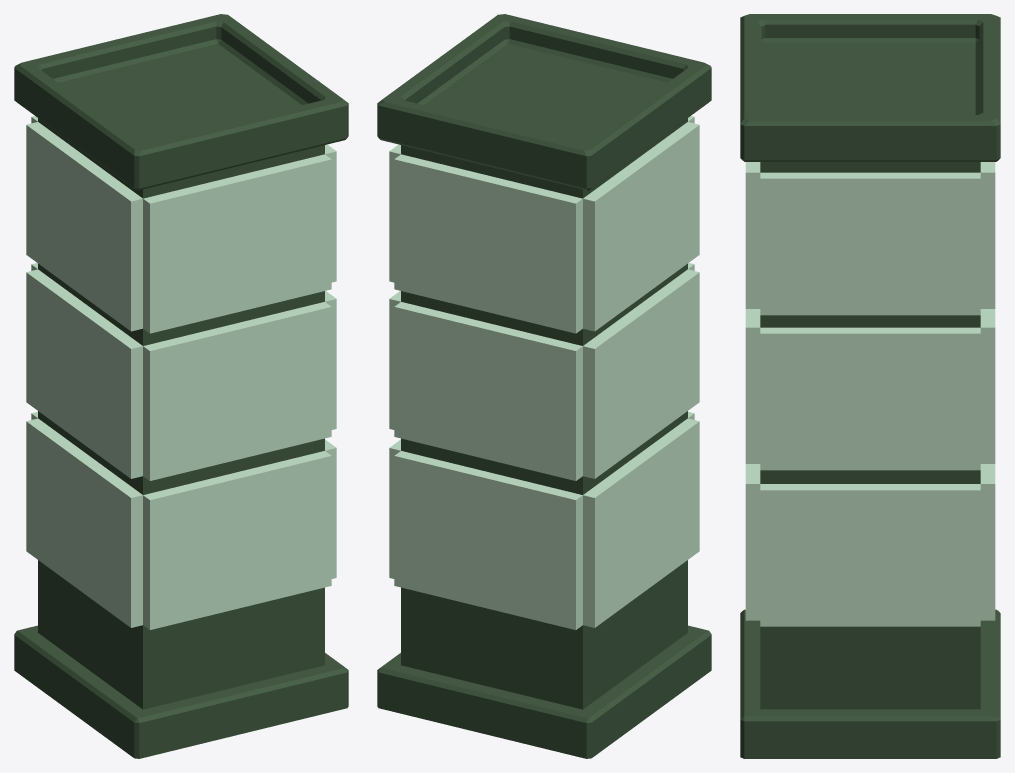
File: predio_alto.fbx
3 views of the same model, side by side, from view 1: azimuth 30°, elevation 25°; view 2: azimuth 150°, elevation 25°; view 3: azimuth 270°, elevation 25° (orthographic). The views are drawn at different scales.
Parts seen in each view (by area): view 1: Predio_alto; view 2: Predio_alto; view 3: Predio_alto.
Boxes of the visible parts, bbox=[...] form: Predio_alto: bbox=[14, 14, 348, 758]; Predio_alto: bbox=[377, 14, 711, 758]; Predio_alto: bbox=[740, 14, 1000, 758].
Bounding box in the file's own units: 200 × 540 × 200.
